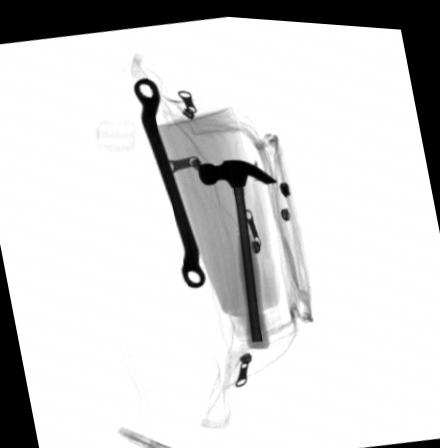Hammer: (198, 154, 279, 345)
Wrench: (132, 73, 205, 285)
